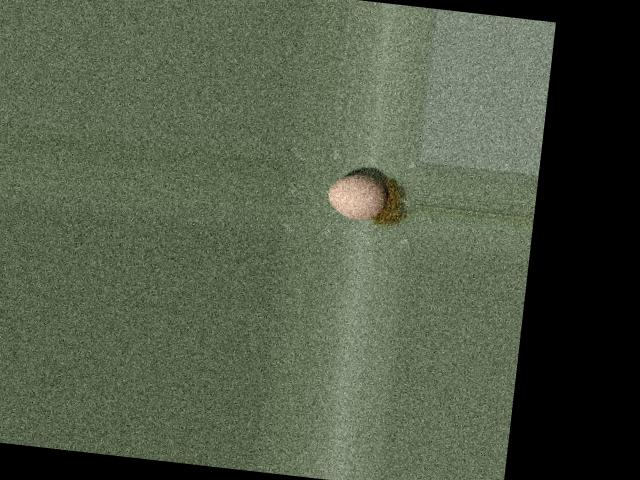egg: (325, 171, 388, 221)
